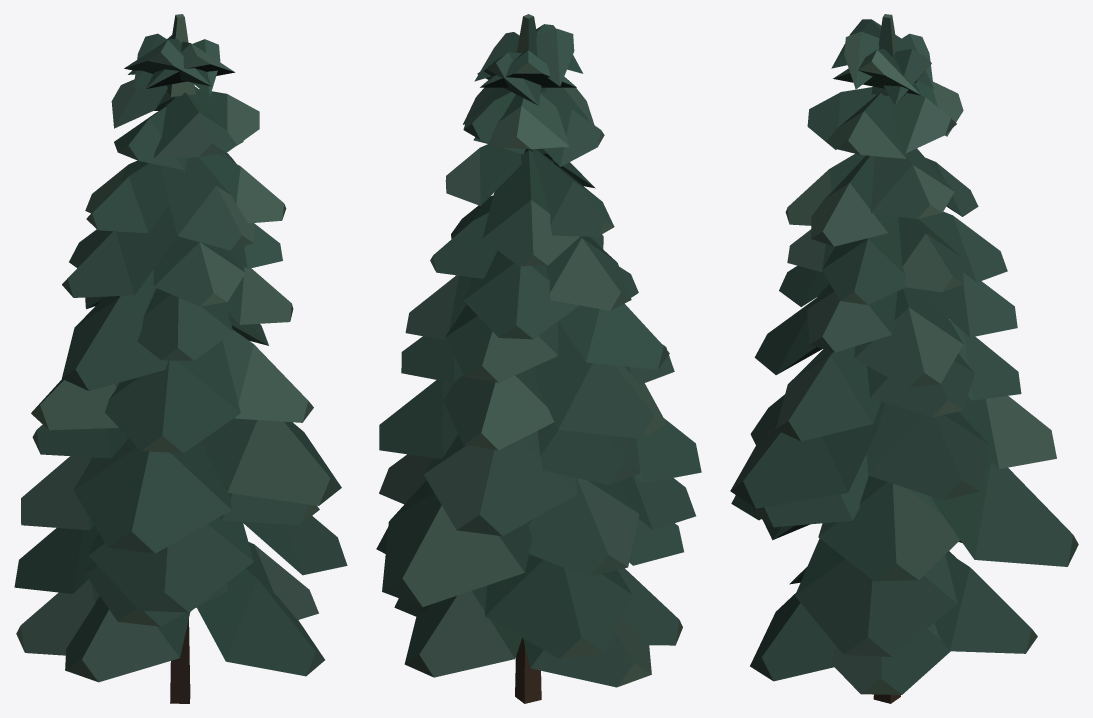
File: pine-small.glb
The picture shows the model from 3 angles, left to right: view 1: azimuth 30°, elevation 25°; view 2: azimuth 150°, elevation 25°; view 3: azimuth 270°, elevation 25°; orthographic projection.
Visible parts, largest first — view 1: pine-small; view 2: pine-small; view 3: pine-small.
Part boxes in pixels (x1=…): pine-small: x1=14, y1=14, x2=347, y2=703; pine-small: x1=376, y1=14, x2=701, y2=703; pine-small: x1=730, y1=14, x2=1078, y2=703.
Bounding box in the file's own units: 1.77 × 4 × 1.85.
